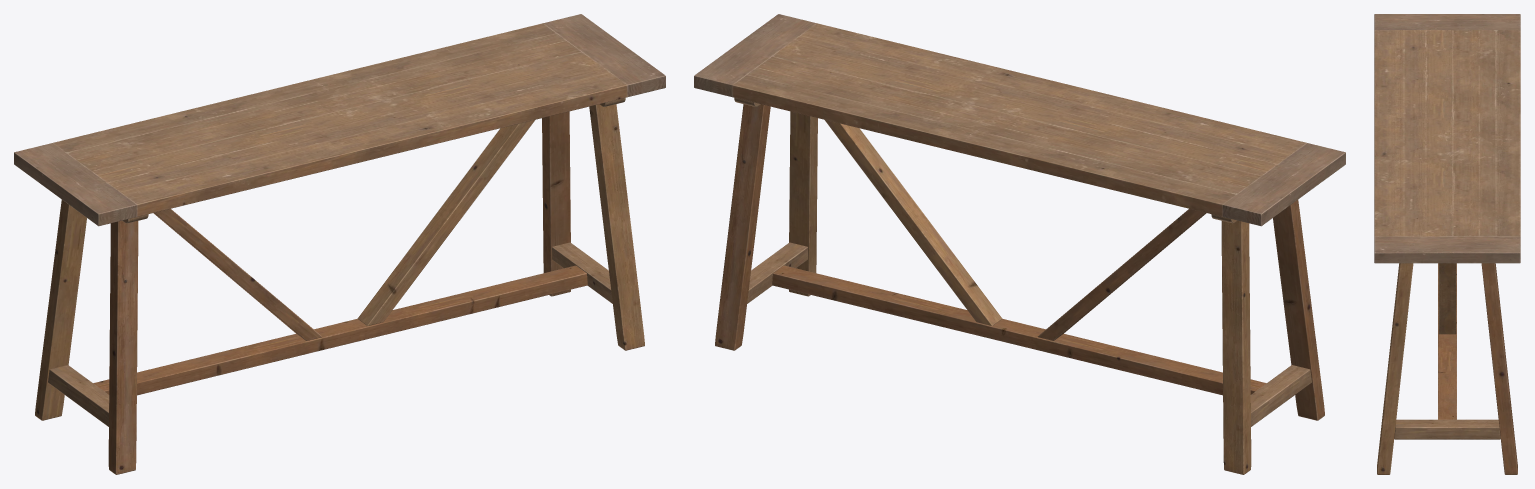
File: abo-B075ZF4SF1.glb
The picture shows the model from 3 angles, left to right: view 1: azimuth 30°, elevation 25°; view 2: azimuth 150°, elevation 25°; view 3: azimuth 270°, elevation 25°; orthographic projection. The views are drawn at different scales.
Size of the model in its own units: 1.8 by 0.81 by 0.465.
1 material, 1 textured.
